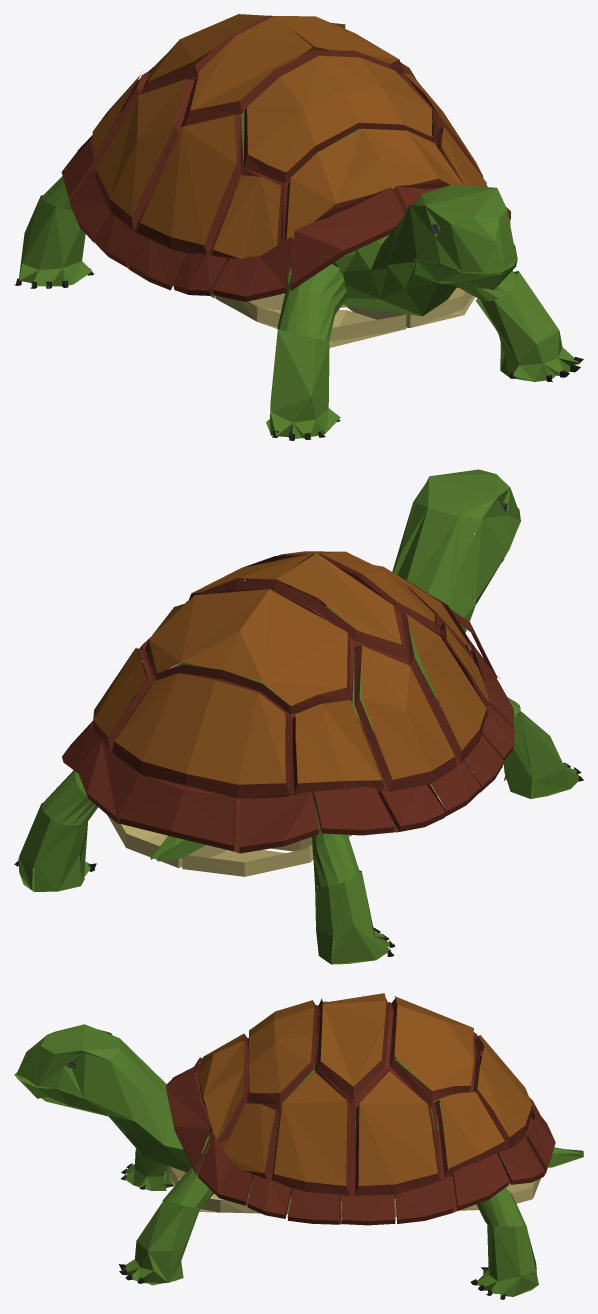
File: turtle.glb
The picture shows the model from 3 angles, top to bottom: view 1: azimuth 30°, elevation 25°; view 2: azimuth 150°, elevation 25°; view 3: azimuth 270°, elevation 25°; orthographic projection. The views are drawn at different scales.
Visible parts, largest first — view 1: Node; view 2: Node; view 3: Node.
Boxes of the visible parts, <box> form: Node: <box>14,14,583,440</box>; Node: <box>14,469,583,964</box>; Node: <box>14,993,583,1299</box>.
Size of the model in its own units: 13.42 by 9.5 by 21.67.
1 material, 1 textured.
